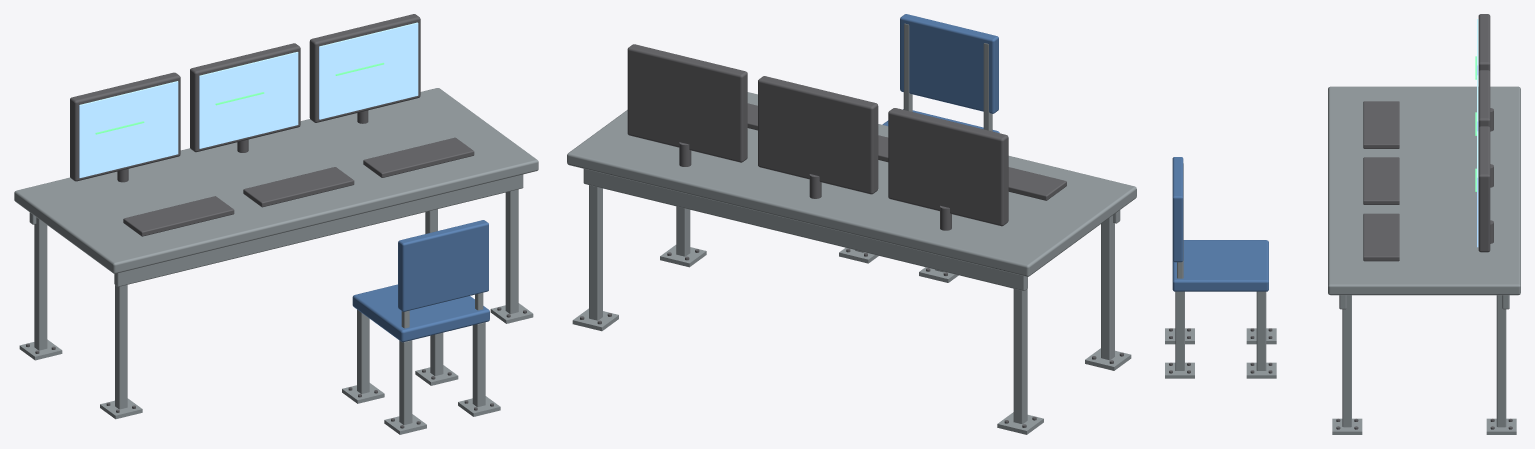
File: prison-complex-builder-control-room-desk-c6662e01__25646.glb
3 renders of one model, left to right at view 1: azimuth 30°, elevation 25°; view 2: azimuth 150°, elevation 25°; view 3: azimuth 270°, elevation 25°, orthographic. The views are drawn at different scales.
Visible parts, largest first — view 1: control-room-desk; view 2: control-room-desk; view 3: control-room-desk.
Boxes of the visible parts, bbox=[...] form: control-room-desk: bbox=[14, 14, 538, 434]; control-room-desk: bbox=[567, 14, 1136, 434]; control-room-desk: bbox=[1165, 14, 1520, 434].
Size of the model in its own units: 2.2 by 1.25 by 1.66.
